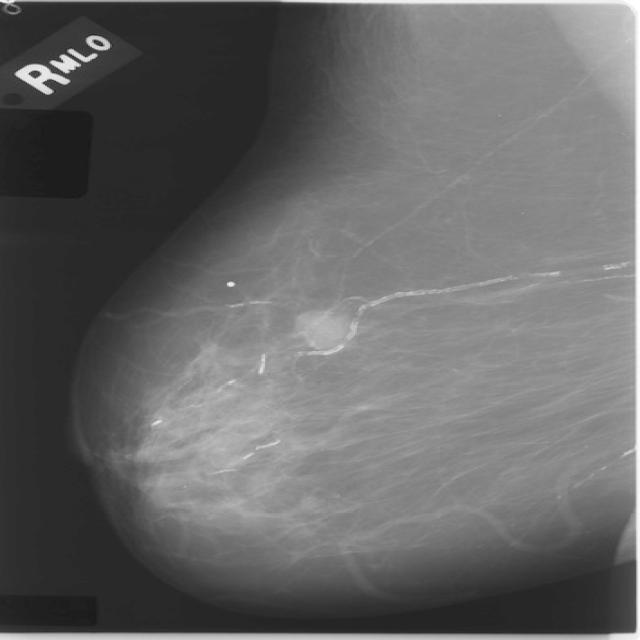tumour: (292, 309, 346, 349)
